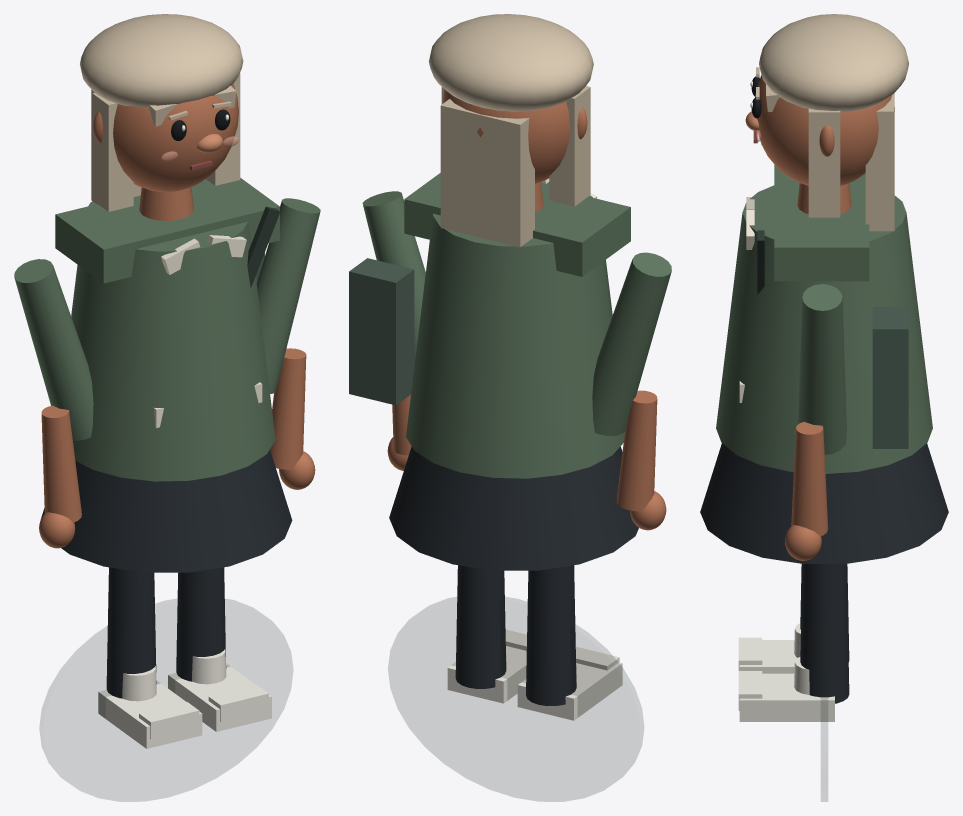
Rendered from customer_05.glb.
3 renders of one model, left to right at view 1: azimuth 30°, elevation 25°; view 2: azimuth 150°, elevation 25°; view 3: azimuth 270°, elevation 25°, orthographic. The views are drawn at different scales.
Parts seen in each view (by area): view 1: torso, contact_shadow, skirt, hair_cap, shoulder_line, head, upper_arm_-0.235, upper_arm_0.235, leg_-0.075, leg_0.075, forearm_-0.235, forearm_0.235 (+13 smaller); view 2: torso, contact_shadow, skirt, hair_cap, back_hair, shoulder_bag, upper_arm_-0.235, shoulder_line, leg_-0.075, leg_0.075, forearm_-0.235, upper_arm_0.235 (+7 smaller); view 3: torso, skirt, hair_cap, shoulder_line, upper_arm_0.235, leg_0.075, head, shoulder_bag, forearm_0.235, shoe_0.075, side_hair_0.115, back_hair (+8 smaller).
Part boxes in pixels (x1,y1,x2,y2): torso: (71, 201, 275, 481); contact_shadow: (40, 599, 292, 801); skirt: (41, 450, 292, 572); hair_cap: (80, 14, 243, 107); shoulder_line: (55, 178, 279, 283); head: (113, 83, 238, 192); upper_arm_-0.235: (14, 259, 93, 440); upper_arm_0.235: (256, 198, 320, 393); leg_-0.075: (106, 567, 156, 698); leg_0.075: (176, 567, 226, 681); forearm_-0.235: (41, 405, 81, 522); forearm_0.235: (270, 348, 306, 469); torso: (406, 182, 624, 478); contact_shadow: (388, 597, 643, 801); skirt: (389, 446, 638, 570); hair_cap: (428, 14, 593, 111); back_hair: (440, 99, 534, 247); shoulder_bag: (349, 258, 414, 405); upper_arm_-0.235: (592, 252, 671, 435); shoulder_line: (404, 173, 630, 276); leg_-0.075: (526, 565, 576, 705); leg_0.075: (455, 565, 506, 688); forearm_-0.235: (616, 390, 657, 511); upper_arm_0.235: (362, 191, 425, 365); torso: (716, 185, 932, 473); skirt: (700, 443, 948, 563); hair_cap: (759, 14, 908, 112); shoulder_line: (774, 164, 869, 281); upper_arm_0.235: (798, 284, 846, 454); leg_0.075: (800, 564, 849, 703); head: (755, 75, 894, 185); shoulder_bag: (872, 307, 908, 448); forearm_0.235: (791, 421, 828, 536); shoe_0.075: (739, 673, 834, 721); side_hair_0.115: (808, 108, 840, 217); back_hair: (865, 93, 894, 231).
Bounding box in the file's own units: 0.623 × 1.51 × 0.4512.
